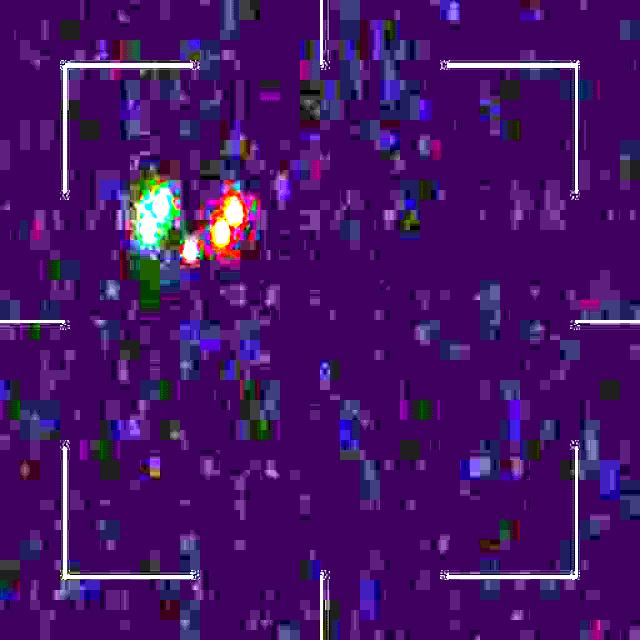bird: (141, 190, 244, 262)
